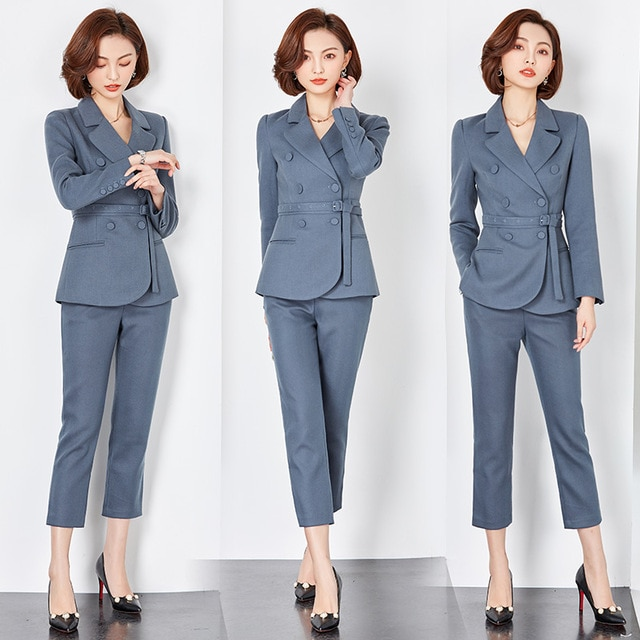F_W_suit jacket: (34, 93, 208, 306), (229, 98, 401, 304), (447, 105, 608, 317)
